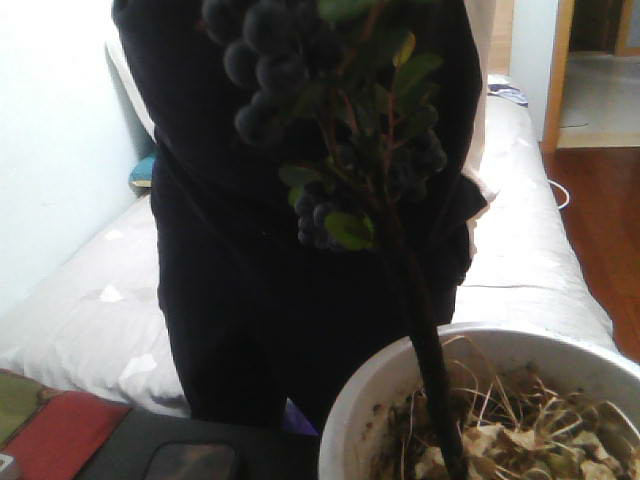blueberry: (253, 51, 298, 89), (218, 42, 263, 79)
